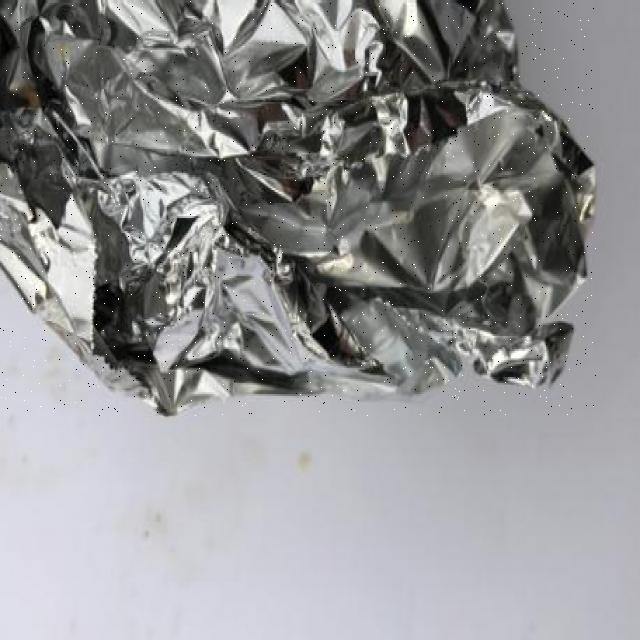metal: (0, 1, 596, 416)
